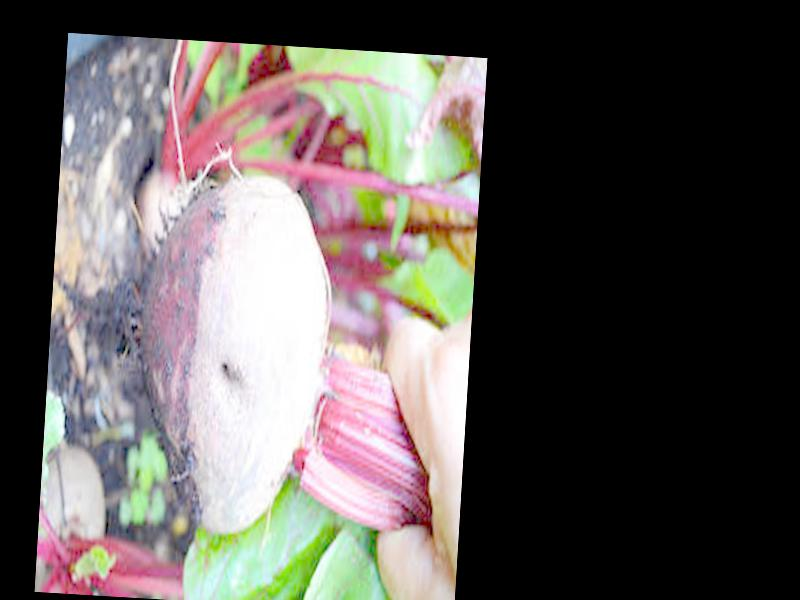Beet: (38, 160, 451, 544)
